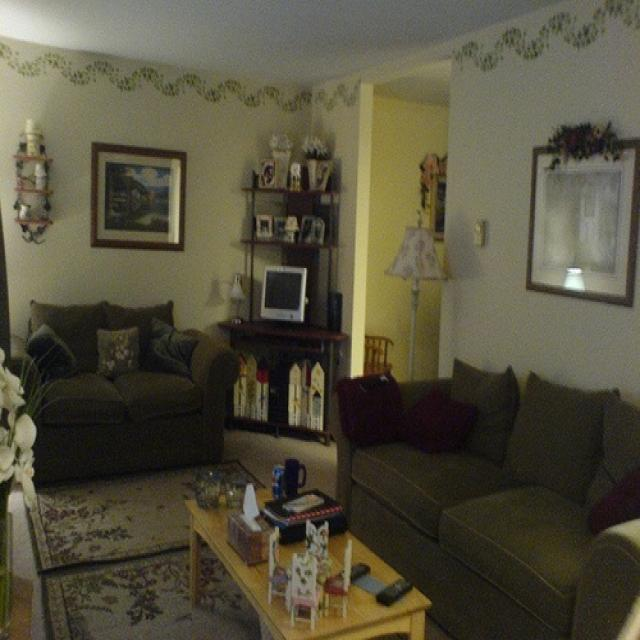sofa: (322, 355, 638, 638), (9, 295, 243, 483)
tvmonitor: (258, 264, 310, 322)
